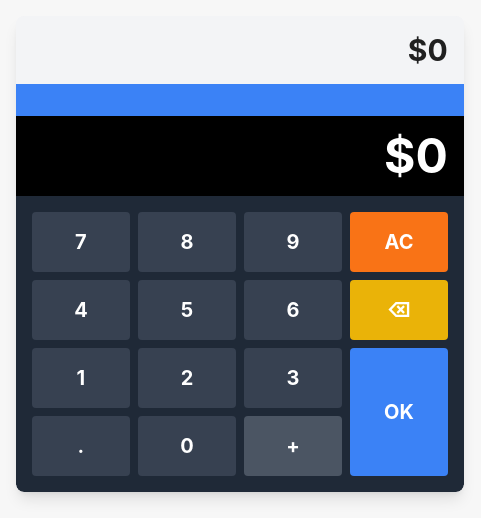
Test case: AccountingApp › allows input of numbers and updates the display
What coordinates should you click on to do the following:
click the button "1"
I would click on:
 (81, 378)
Its box is [32,348,130,408].
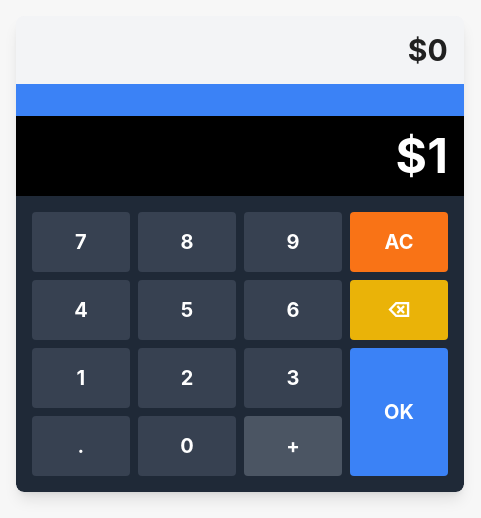
What coordinates should you click on to do the following:
click the button "2"
I would click on:
 (187, 378)
Its box is [138,348,236,408].
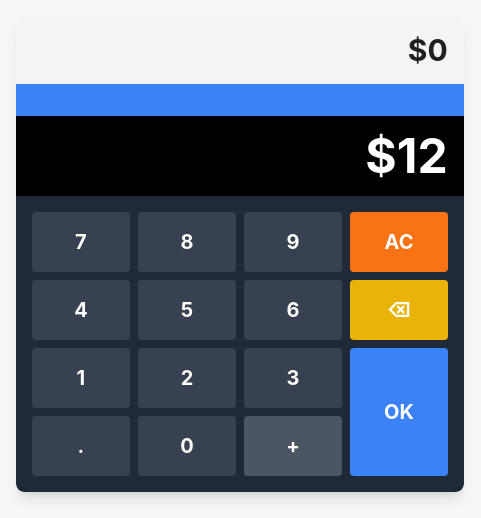
What coordinates should you click on to do the following:
click the button "3"
I would click on:
 (293, 378)
Its box is [244,348,342,408].
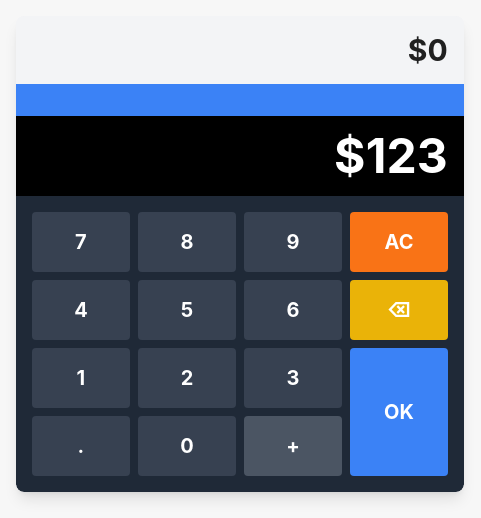
Check: the text "$123" is shown, box [334,126,448,185]
